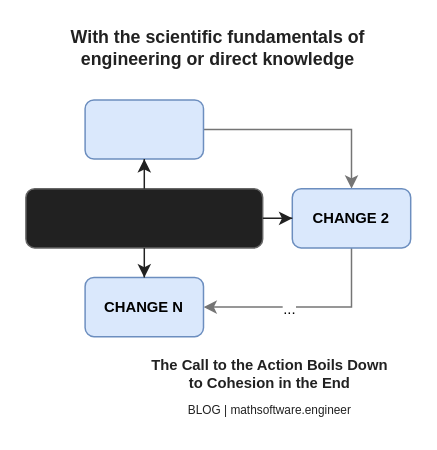
Image size: 437x450. Some labels were removed from this diagram. The shapes that lost their labels are listed below. From the top down, each one's centre as x and y in pixels, then its label:
At pixel 144 128: "CHANGE 1".
At pixel 143 217: "UNIVERSAL MATH/SCIENTIFIC BASIS".
